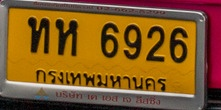txt18: (26, 16, 51, 54)
txt36: (53, 17, 79, 57)
